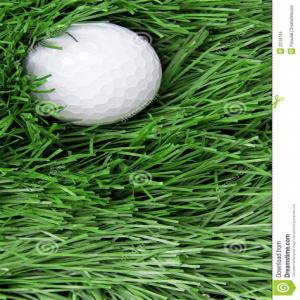Golf: (22, 23, 165, 123)
